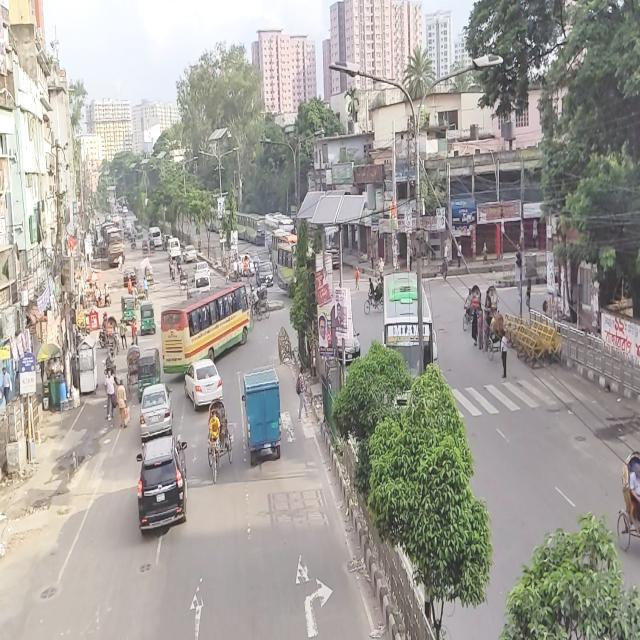black: (137, 438, 187, 536)
silver: (140, 383, 172, 439)
white: (182, 358, 225, 406)
